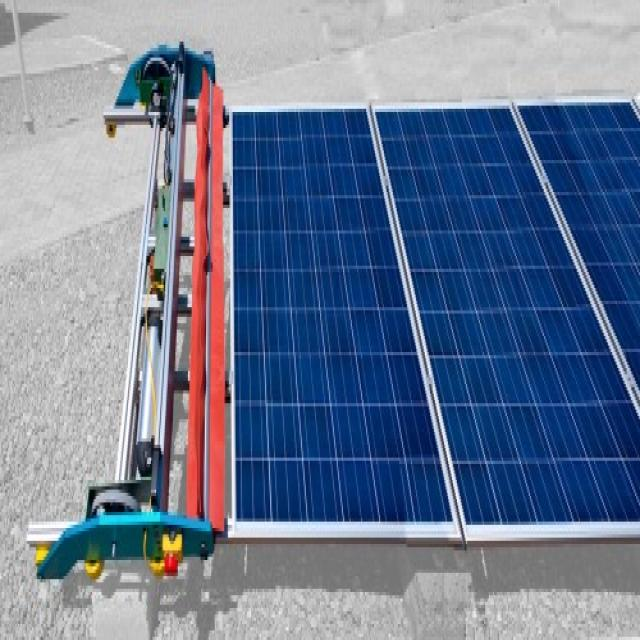clean-solar-panel: (232, 109, 452, 534)
